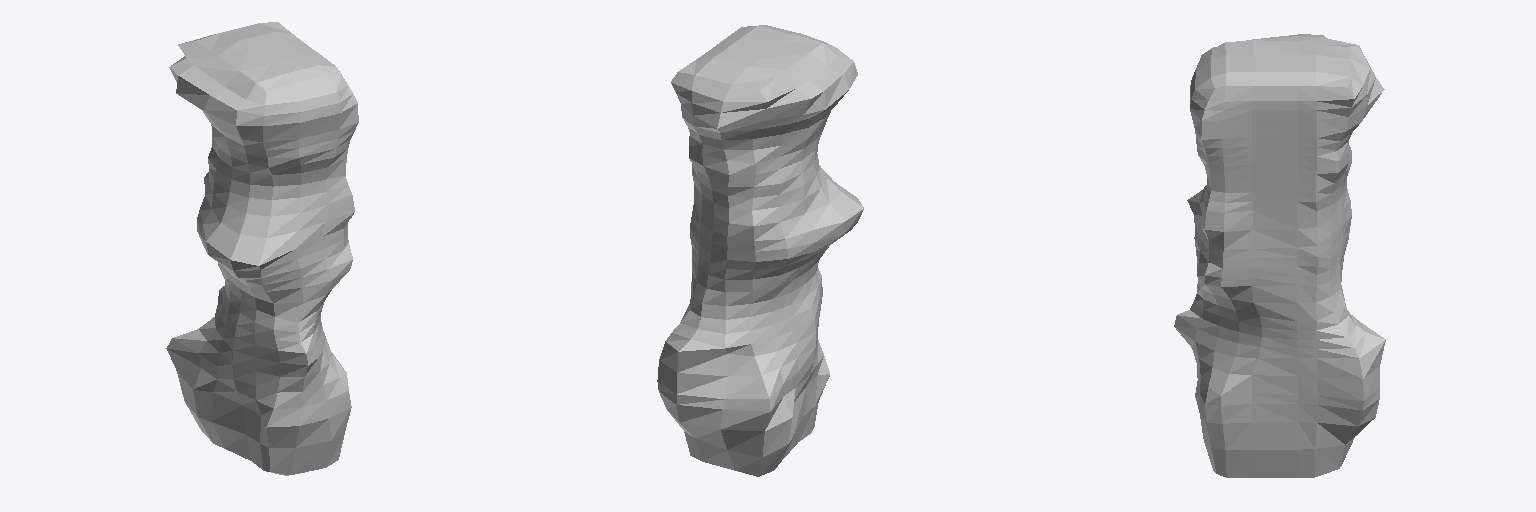
The model's file is env_level1_Canyon_Rock17.obj.
3 views of the same model, side by side, from view 1: azimuth 30°, elevation 25°; view 2: azimuth 150°, elevation 25°; view 3: azimuth 270°, elevation 25° (orthographic).
Parts seen in each view (by area): view 1: rockwall_b08; view 2: rockwall_b08; view 3: rockwall_b08.
Boxes of the visible parts, <box> form: rockwall_b08: <box>166,22,358,475</box>; rockwall_b08: <box>657,25,863,476</box>; rockwall_b08: <box>1174,34,1385,477</box>.
Bounding box in the file's own units: 1402 × 3935 × 1869.